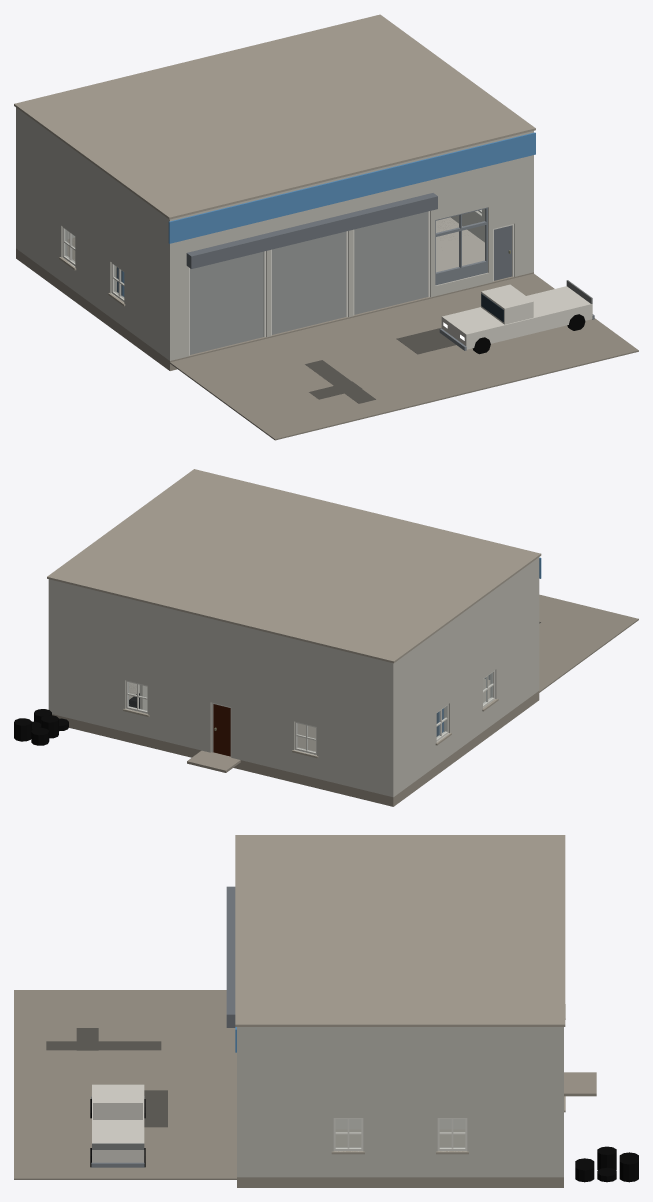
File: garage.glb
3 renders of one model, top to bottom at view 1: azimuth 30°, elevation 25°; view 2: azimuth 150°, elevation 25°; view 3: azimuth 270°, elevation 25°, orthographic. The views are drawn at different scales.
Visible parts, largest first — view 1: LOD0; view 2: LOD0; view 3: LOD0.
Boxes of the visible parts, bbox=[...] form: LOD0: bbox=[14, 14, 638, 440]; LOD0: bbox=[14, 469, 638, 806]; LOD0: bbox=[14, 835, 638, 1187].
Size of what is drawn, in the model's own units: 15.25 by 6.08 by 21.02.
